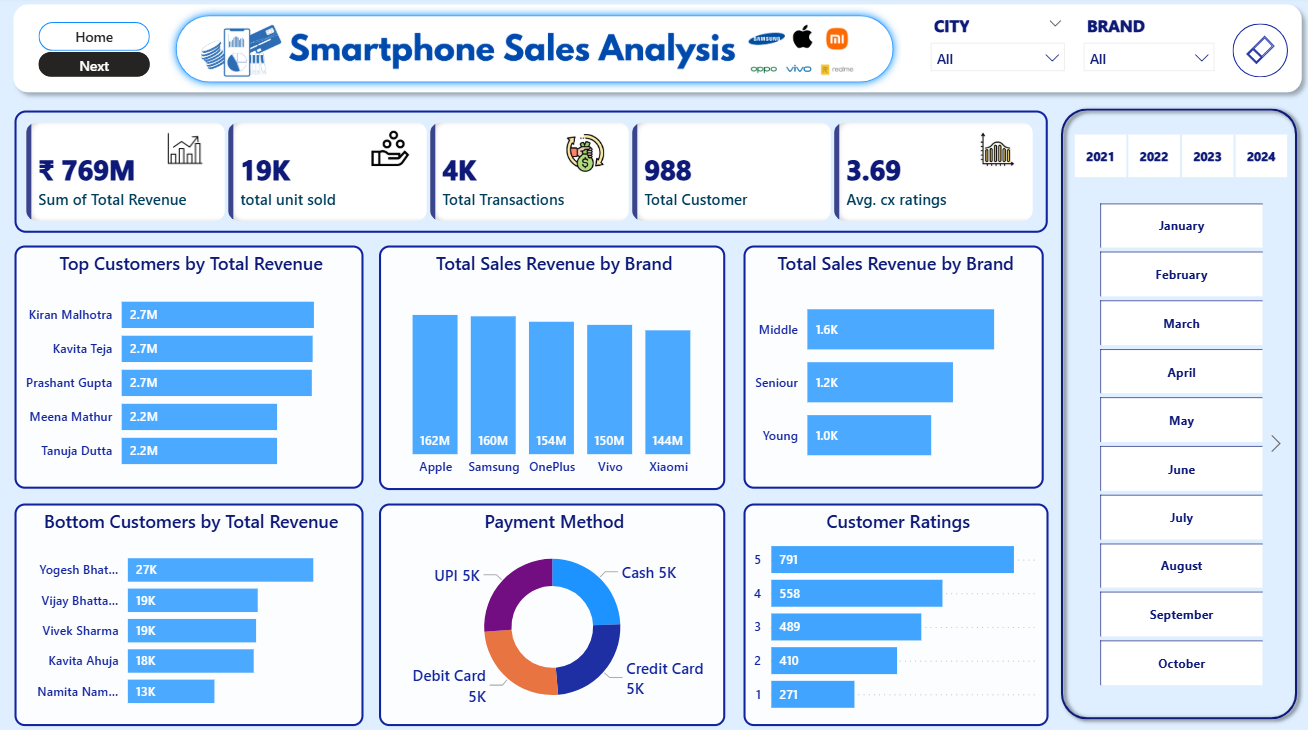

The dashboard page shown, as its layout file describes it:
{"tool":"powerbi","page":{"name":"Home","canvas":[1280,720],"ordinal":0},"visuals":[{"type":"shape","box":[11.7,0,1268.3,103.5],"z":0,"group":"g1"},{"type":"shape","box":[170.4,11.7,712.6,81.3],"z":0,"group":"g3"},{"type":"shape","box":[1033.3,100,241.7,620],"z":0},{"type":"cardVisual","fields":{"Data":["Sum(Sheet1.Total Revenue )","Sheet1.total unit sold","Sheet1.Total Transactions","Sheet1.Total Customer","Sheet1.Avg. cx ratings"]},"box":[22,112,1002.9,118.6],"z":0,"group":"g2"},{"type":"group","id":"g1","title":"Group 1","box":[11.7,0,1268.3,103.5],"z":1000},{"type":"image","box":[281.3,19,446.4,68.8],"z":1000,"group":"g3"},{"type":"image","box":[144.7,122,87.3,52.7],"z":1000,"group":"g2"},{"type":"image","box":[196.3,20.1,91.3,68.7],"z":2000,"group":"g3"},{"type":"group","id":"g2","title":"Group 2","box":[22,112,1002.9,118.6],"z":2000},{"type":"image","box":[540.2,129.3,70.9,47.3],"z":2000,"group":"g2"},{"type":"slicer","fields":{"Values":["Sheet1.City"]},"box":[900.4,13.5,150,80],"z":3000},{"type":"image","box":[727.6,21.8,112.8,62.4],"z":3000,"group":"g3"},{"type":"image","box":[360.2,125.6,53.6,47.3],"z":3000,"group":"g2"},{"type":"slicer","fields":{"Values":["Sheet1.Brand"]},"box":[1050,13.3,146.7,81.7],"z":4000},{"type":"image","box":[944.7,127.5,60.9,43.6],"z":4000,"group":"g2"},{"type":"slicer","fields":{"Values":["sales_data.Transactin date.Variation.Date Hierarchy.Year"]},"box":[1025,116.7,255,55],"z":5000},{"type":"slicer","fields":{"Values":["sales_data.Transactin date.Variation.Date Hierarchy.Month"]},"box":[1050,161.7,193.3,548.3],"z":6000},{"type":"barChart","title":"Top Mobile Models by Units Sold","fields":{"Category":["sales_data.Mobile Model"],"Y":["Sum(sales_data.Units Sold)"]},"box":[21.7,243.3,338.3,216.7],"z":7000},{"type":"columnChart","title":"Units Sold by Brand","fields":{"Category":["sales_data.Brand"],"Y":["Sum(sales_data.Units Sold)"]},"box":[375,243.3,336.7,216.7],"z":8000},{"type":"lineChart","title":"Daily Units Sold","fields":{"Y":["Avg(sales_data.Units Sold)","Median(sales_data.Units Sold)"],"Category":["sales_data.dayname"]},"box":[20.8,472.4,570.7,238.1],"z":9000},{"type":"barChart","title":"Unit sold by City","fields":{"Category":["sales_data.City"],"Y":["sales_data.total unit sold"]},"box":[612.8,472.1,411.6,238.4],"z":10000},{"type":"pieChart","title":"Top Citys by Total Revenue","fields":{"Category":["sales_data.City"],"Y":["Sum(sales_data.Total Revenue )"]},"box":[725.7,241.9,298.6,217.3],"z":11000},{"type":"actionButton","box":[1203.1,27.7,53.8,52.3],"z":12000},{"type":"pageNavigator","box":[45.7,25.7,108.3,28.3],"z":13000},{"type":"pageNavigator","box":[45.7,55.7,108.3,24.3],"z":14000},{"type":"group","id":"g3","title":"Group 1","box":[170.4,11.7,712.6,81.3],"z":15000}]}

Visuals, with their boxes in screenshot pixels (x1, y1, x2, y2), scaled from the page's 1280x720 canvas onto the 1308x730 screenshot:
shape: BBox(12, 0, 1307, 105)
shape: BBox(174, 12, 902, 94)
shape: BBox(1056, 101, 1303, 729)
cardVisual - Sum(Sheet1.Total Revenue ) x Sheet1.total unit sold: BBox(22, 114, 1047, 234)
"Group 1" group: BBox(12, 0, 1307, 105)
image: BBox(287, 19, 744, 89)
image: BBox(148, 124, 237, 177)
image: BBox(201, 20, 294, 90)
"Group 2" group: BBox(22, 114, 1047, 234)
image: BBox(552, 131, 624, 179)
slicer - Sheet1.City: BBox(920, 14, 1073, 95)
image: BBox(744, 22, 859, 85)
image: BBox(368, 127, 423, 175)
slicer - Sheet1.Brand: BBox(1073, 13, 1223, 96)
image: BBox(965, 129, 1028, 173)
slicer - sales_data.Transactin date.Variation.Date Hierarchy.Year: BBox(1047, 118, 1307, 174)
slicer - sales_data.Transactin date.Variation.Date Hierarchy.Month: BBox(1073, 164, 1270, 720)
"Top Mobile Models by Units Sold" barChart: BBox(22, 247, 368, 466)
"Units Sold by Brand" columnChart: BBox(383, 247, 727, 466)
"Daily Units Sold" lineChart: BBox(21, 479, 604, 720)
"Unit sold by City" barChart: BBox(626, 479, 1047, 720)
"Top Citys by Total Revenue" pieChart: BBox(742, 245, 1047, 466)
actionButton: BBox(1229, 28, 1284, 81)
pageNavigator: BBox(47, 26, 157, 55)
pageNavigator: BBox(47, 56, 157, 81)
"Group 1" group: BBox(174, 12, 902, 94)
